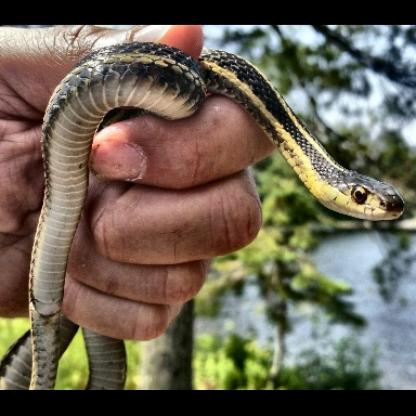Snake: (209, 44, 406, 236)
